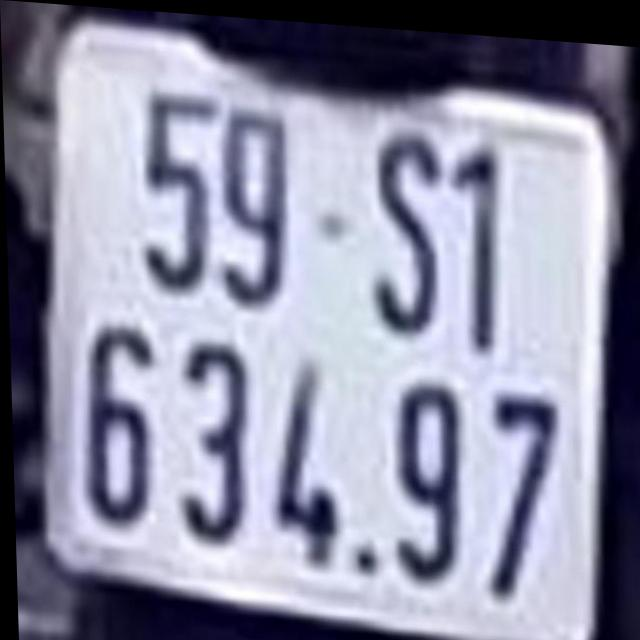1: (449, 126, 506, 340)
3: (178, 335, 245, 539)
4: (265, 348, 335, 563)
5: (142, 90, 221, 293)
6: (82, 321, 156, 526)
7: (480, 377, 559, 596)
9: (391, 373, 458, 574), (221, 97, 286, 302)
S: (367, 115, 450, 330)
